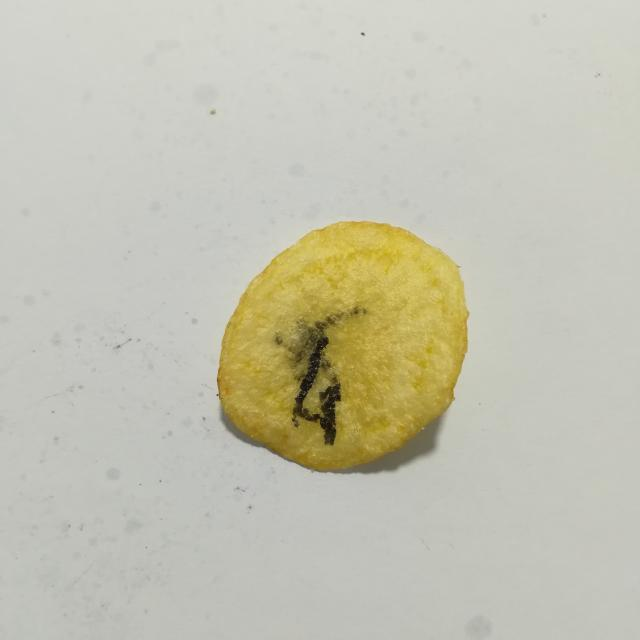chip: (217, 222, 469, 470)
damaged: (292, 332, 341, 445)
semi-damaged: (275, 306, 367, 380), (321, 350, 331, 372), (328, 374, 338, 384)
